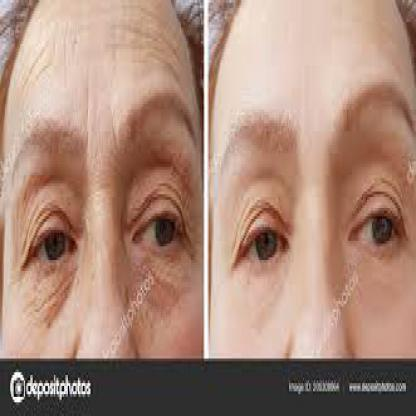puffyeye: (354, 156, 415, 208), (22, 274, 72, 336), (234, 172, 295, 222), (138, 249, 194, 298)
wrinkle: (108, 0, 183, 80), (24, 30, 70, 82), (18, 180, 40, 233), (161, 175, 187, 211)
